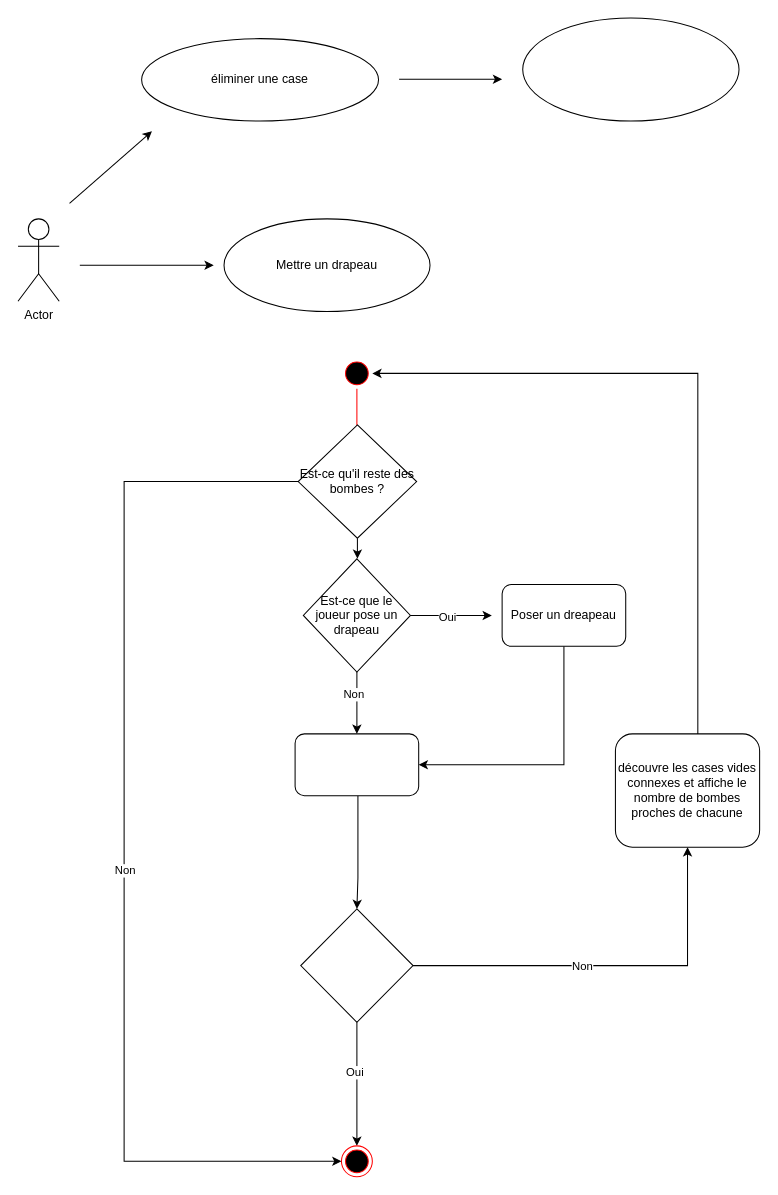
The diagram is 778 pixels wide and 1195 high, and some of its shapes have lost their labels. Here are the shapes that lost their labels. From the top down, the centre of each, then its label:
At [630,69]: "éliminer toutes les cases vides connexes".
At [356,764]: "cliquer sur une case".
At [356,965]: "Est-ce que c'est une bombe ?".
